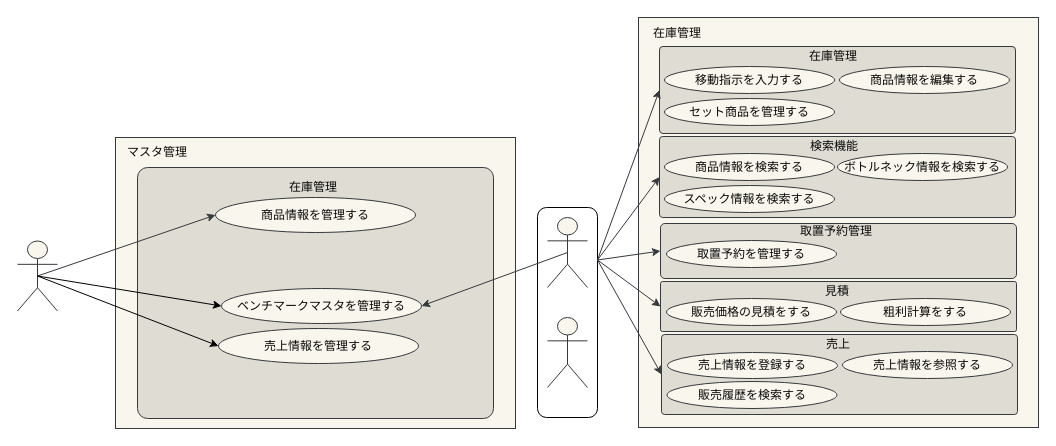
Some shapes in this 1056 by 446 pixel diagram are drawn without their labels. Here are the shapes that lost their labels. From the top down, the centre of each, then its label:
pixel 567 252: 正規社員
pixel 37 275: 管理者
pixel 567 352: 非正規社員
